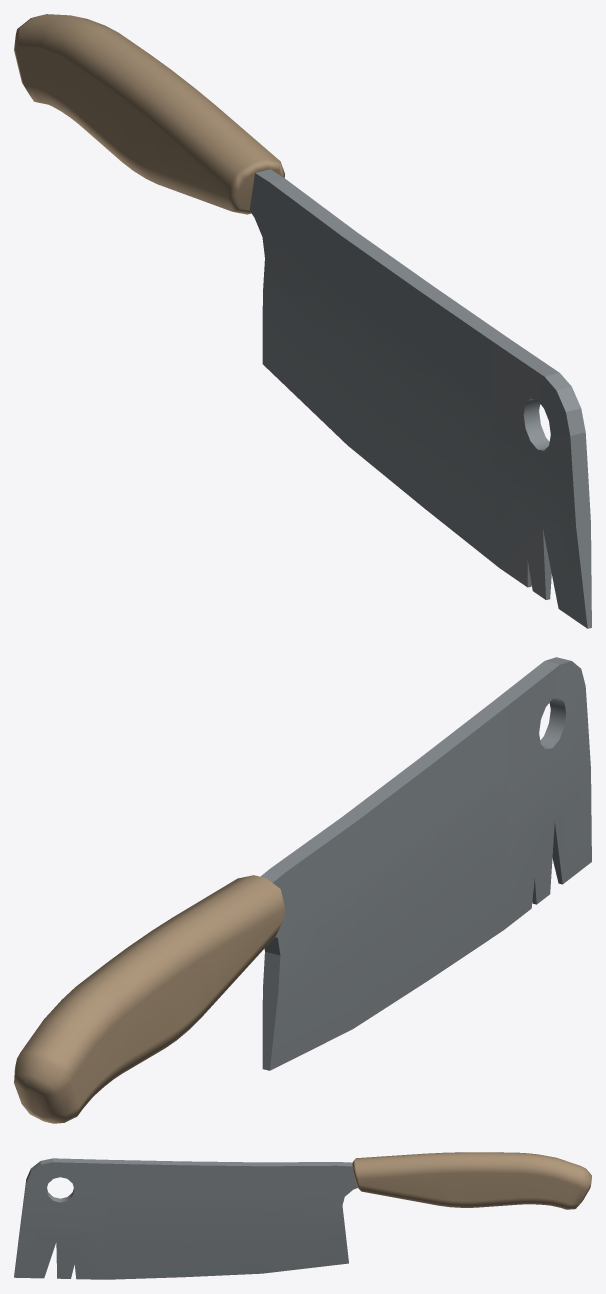
File: SM_knife_1.fbx
3 views of the same model, one above another, from view 1: azimuth 30°, elevation 25°; view 2: azimuth 150°, elevation 25°; view 3: azimuth 270°, elevation 25° (orthographic). The views are drawn at different scales.
Parts seen in each view (by area): view 1: SM_knife_1; view 2: SM_knife_1; view 3: SM_knife_1.
Part boxes in pixels (x1,y1,x2,y2): SM_knife_1: (14, 14, 591, 628); SM_knife_1: (14, 657, 591, 1123); SM_knife_1: (14, 1152, 591, 1279).
Bounding box in the file's own units: 4.16 × 17.17 × 71.86.
